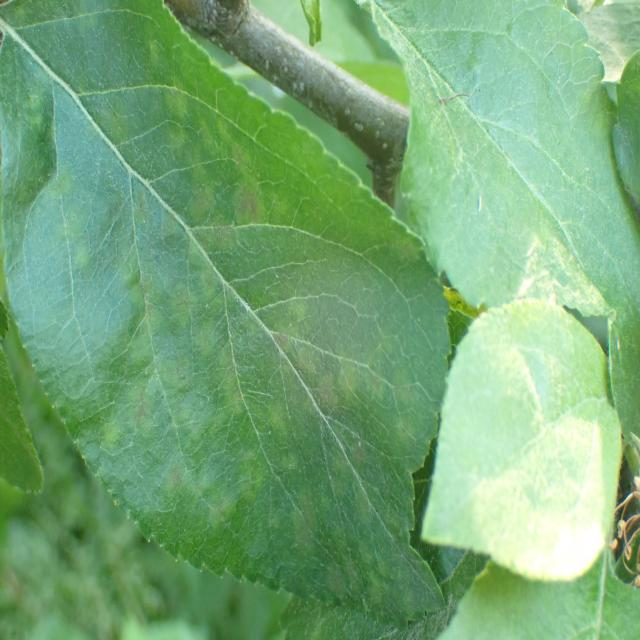scab: (61, 40, 414, 585)
